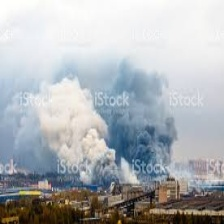smoke: (29, 59, 173, 177)
